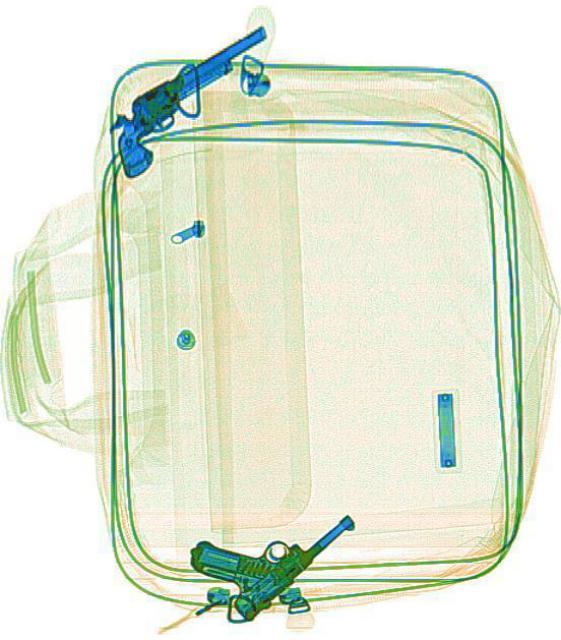Gun: (93, 19, 294, 181), (179, 452, 358, 630)
